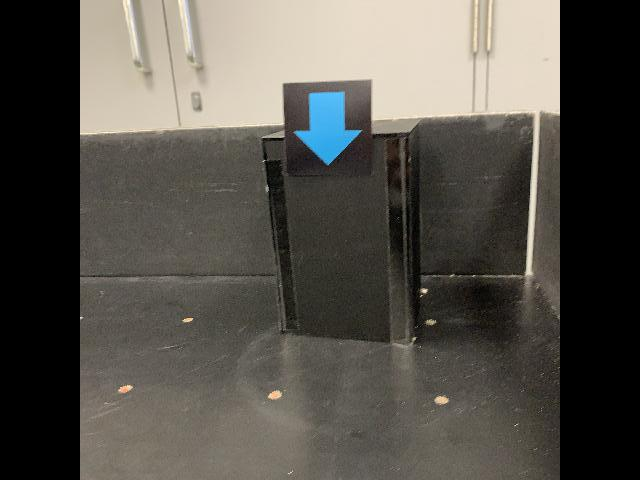down: (280, 79, 374, 183)
